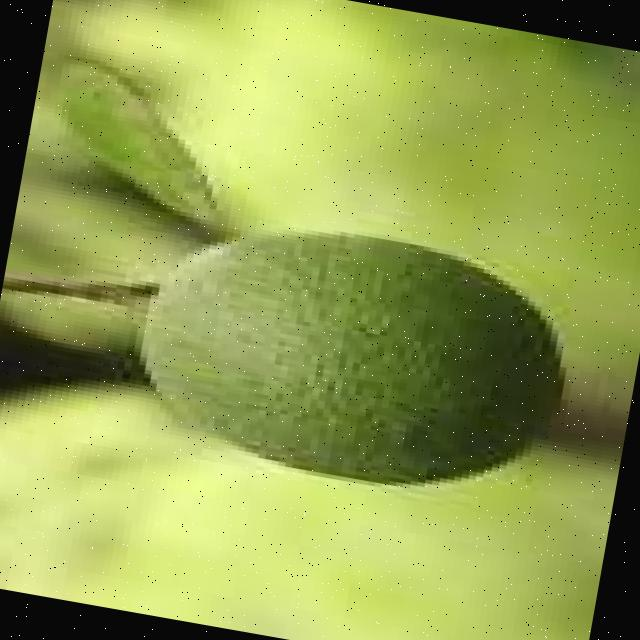Unripe: (123, 198, 581, 512)
